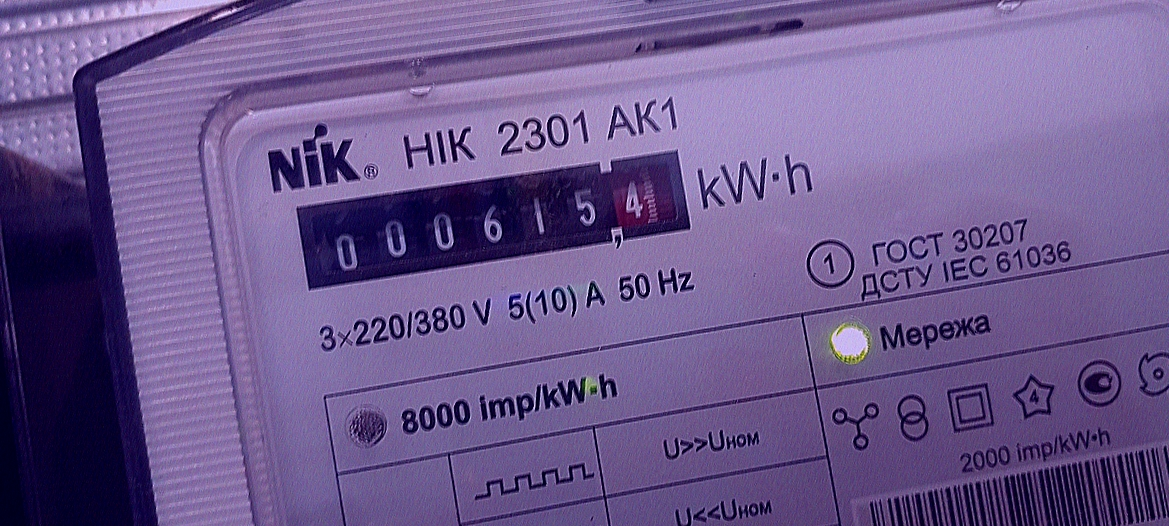0: (428, 208, 458, 253), (331, 228, 361, 272), (381, 215, 409, 258)
1: (530, 193, 548, 236)
4: (620, 177, 644, 220)
5: (571, 184, 599, 228)
6: (477, 201, 506, 244)
screen: (280, 136, 706, 302)
